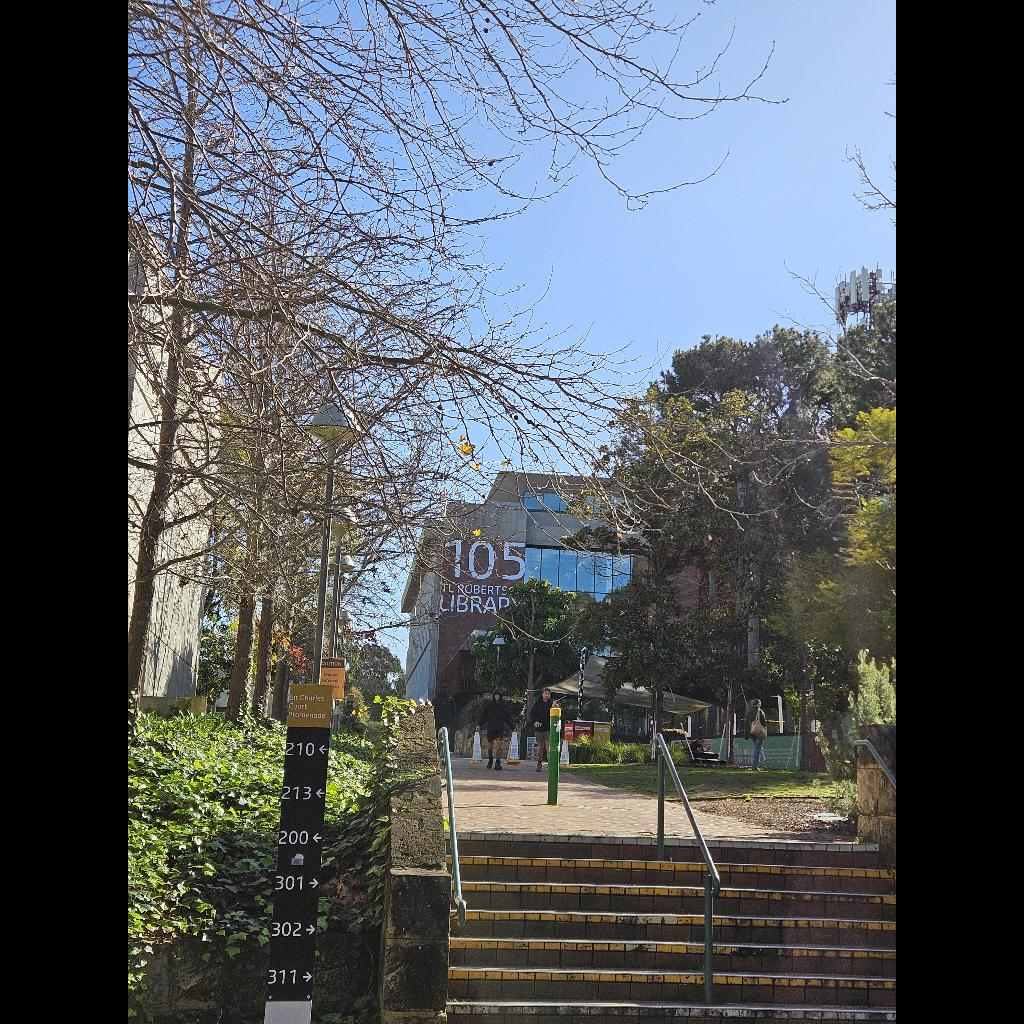BuildingCodes: (443, 538, 527, 582)
